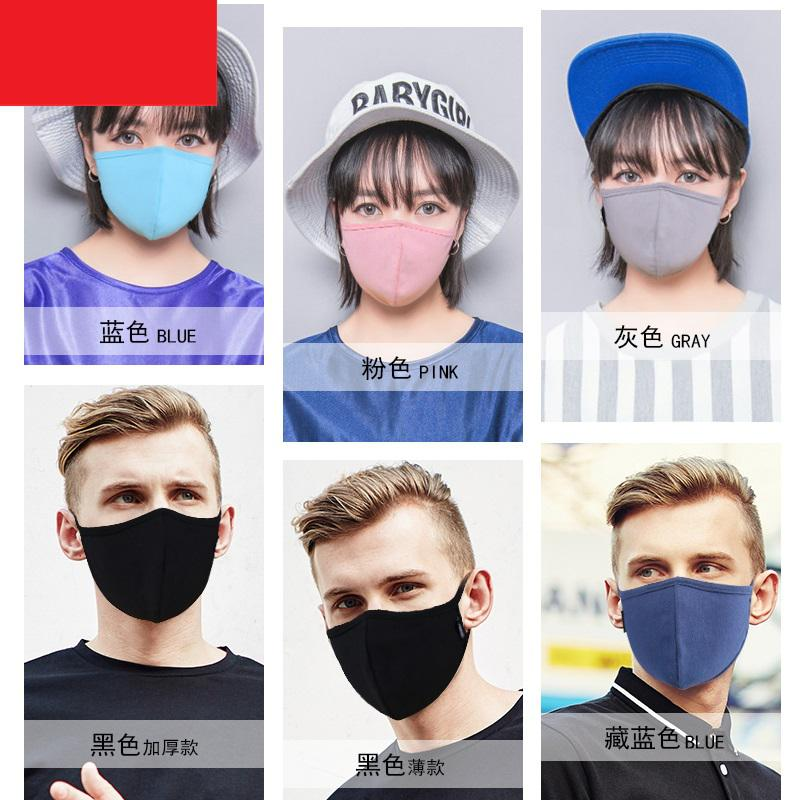OK: (311, 546, 472, 711), (83, 459, 219, 619), (623, 536, 754, 691), (92, 98, 223, 233), (597, 147, 731, 269), (341, 182, 458, 299)
